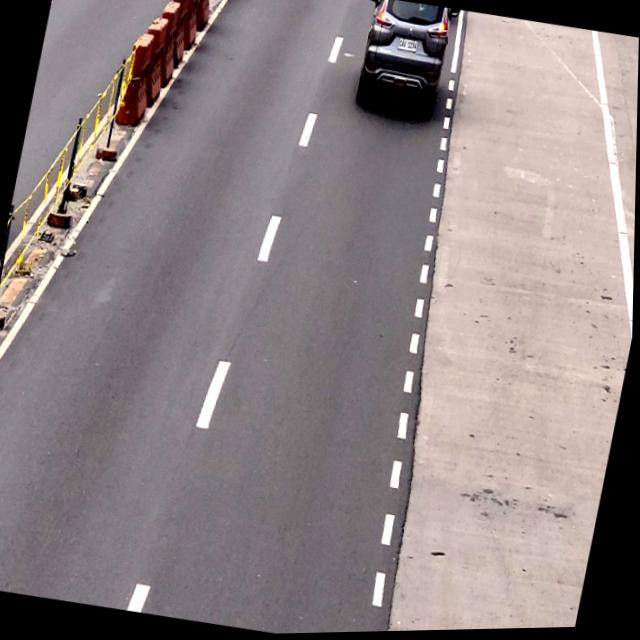Car: (355, 0, 455, 118)
License-Plate: (398, 36, 419, 54)
